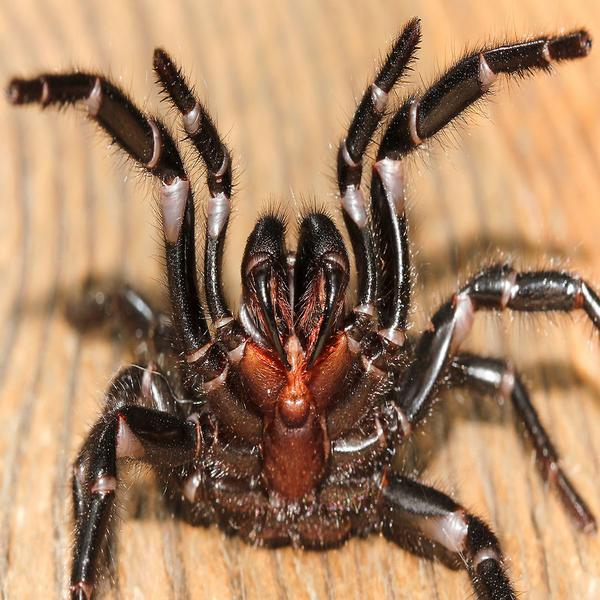Funnel Web Spider: (26, 36, 588, 582)
